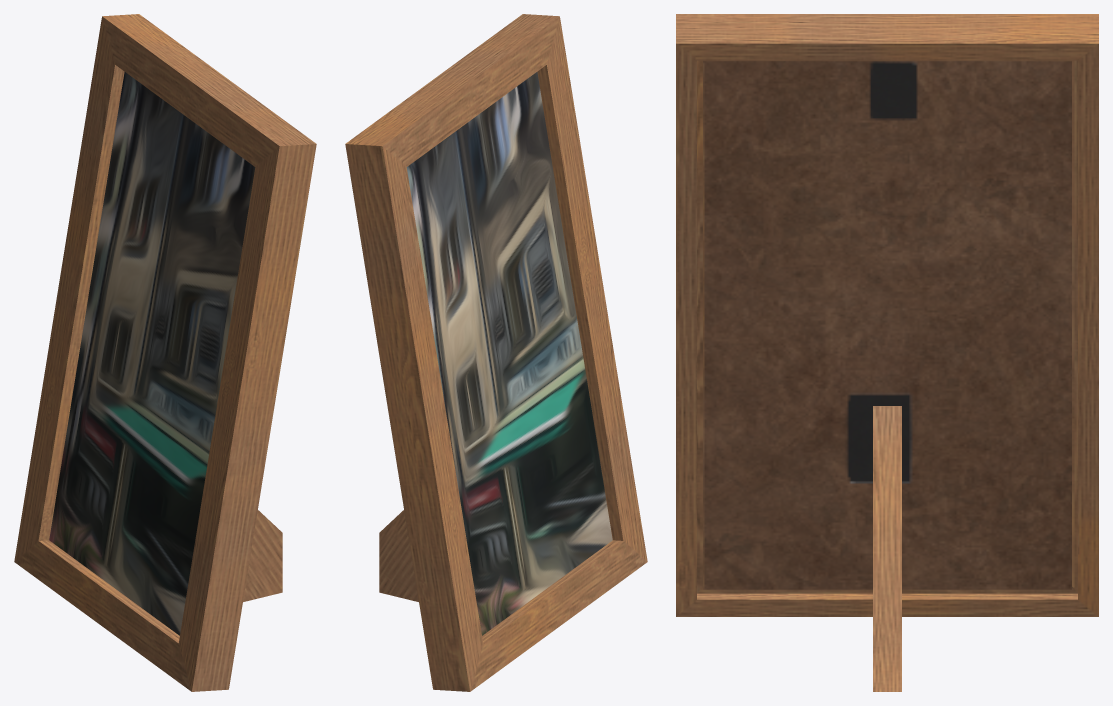
The model's file is SM_Photo_01.fbx.
3 views of the same model, side by side, from view 1: azimuth 30°, elevation 25°; view 2: azimuth 150°, elevation 25°; view 3: azimuth 270°, elevation 25° (orthographic). The views are drawn at different scales.
Visible parts, largest first — view 1: SM_Photo_01_LOD0; view 2: SM_Photo_01_LOD0; view 3: SM_Photo_01_LOD0.
Boxes of the visible parts, bbox=[...] form: SM_Photo_01_LOD0: bbox=[14, 14, 316, 691]; SM_Photo_01_LOD0: bbox=[345, 14, 647, 691]; SM_Photo_01_LOD0: bbox=[676, 14, 1098, 691].
Bounding box in the file's own units: 8.03 × 14.24 × 23.5.
